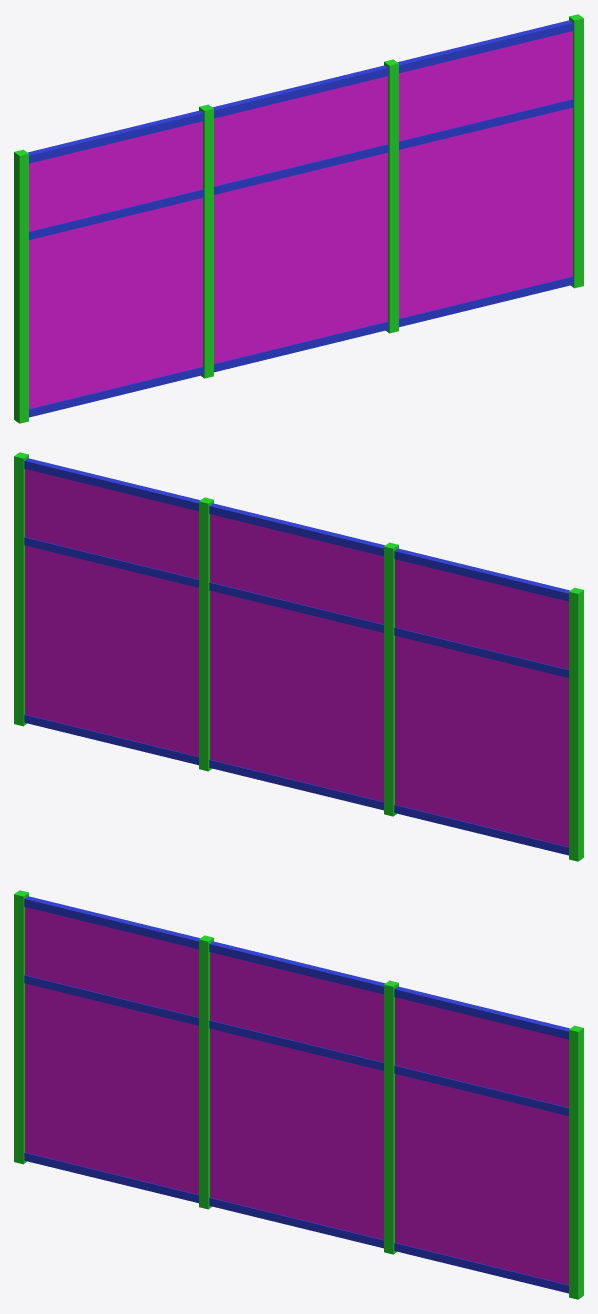
The model's file is Fence_12_A.fbx.
3 views of the same model, one above another, from view 1: azimuth 30°, elevation 25°; view 2: azimuth 150°, elevation 25°; view 3: azimuth 330°, elevation 25° (orthographic).
Visible parts, largest first — view 1: Fence_12_A; view 2: Fence_12_A; view 3: Fence_12_A.
Part boxes in pixels (<box>): Fence_12_A: <box>14,14,583,423</box>; Fence_12_A: <box>14,452,583,861</box>; Fence_12_A: <box>14,890,583,1299</box>.
Size of the model in its own units: 229 by 104 by 3.93.
